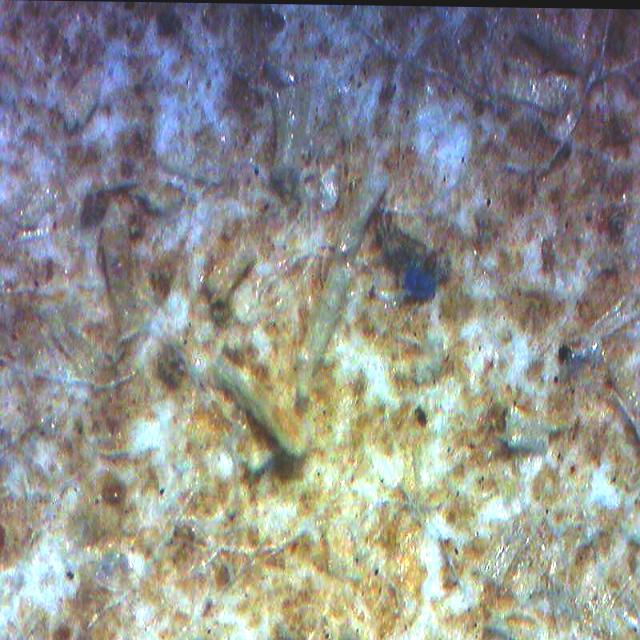microplastic: (404, 266, 437, 300)
